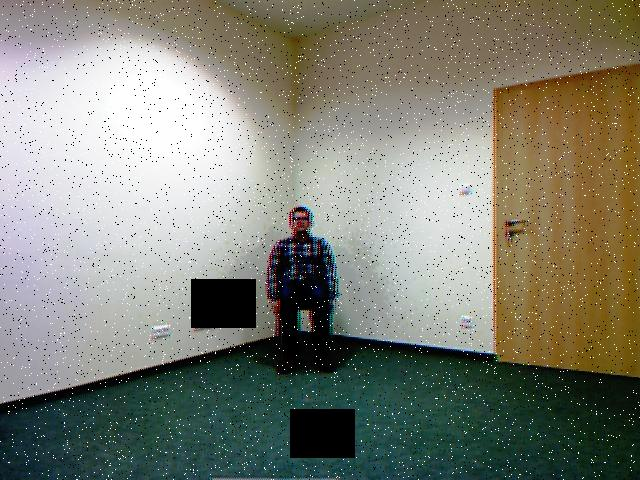sitting: (252, 192, 357, 384)
